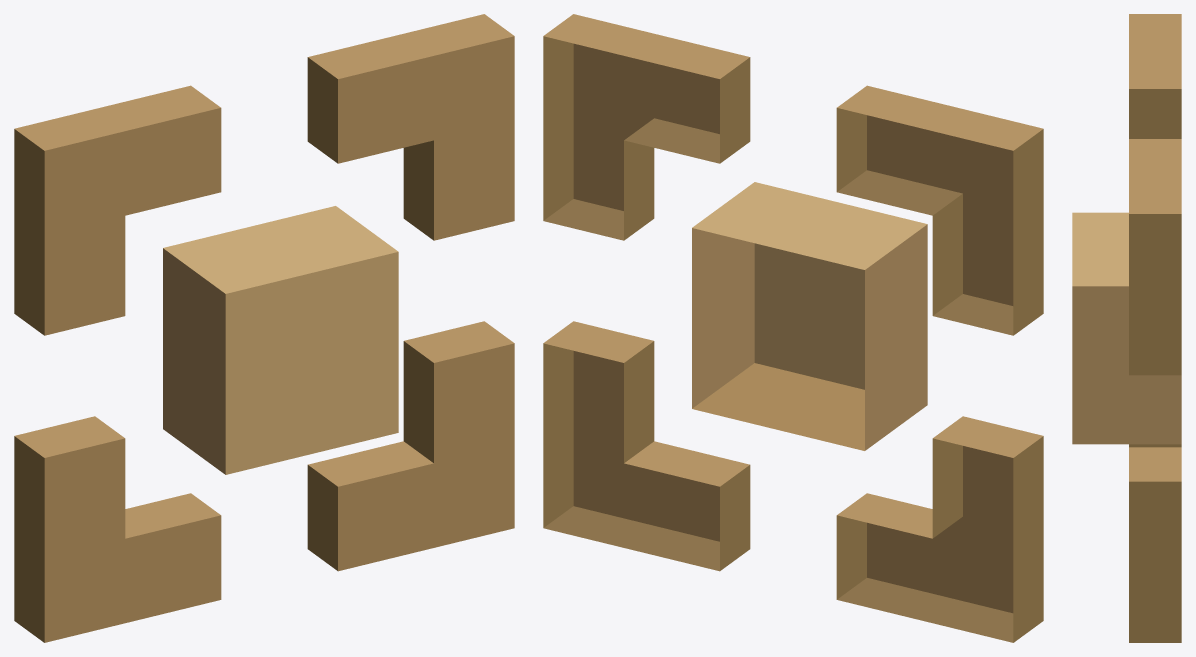
The model's file is ST_Prop_Button_01.fbx.
3 renders of one model, left to right at view 1: azimuth 30°, elevation 25°; view 2: azimuth 150°, elevation 25°; view 3: azimuth 270°, elevation 25°, orthographic. The views are drawn at different scales.
Parts seen in each view (by area): view 1: ST_Prop_Button_01; view 2: ST_Prop_Button_01; view 3: ST_Prop_Button_01.
Part boxes in pixels (left/top/right/bottom): ST_Prop_Button_01: left=14, top=14, right=514, bottom=642; ST_Prop_Button_01: left=543, top=14, right=1043, bottom=642; ST_Prop_Button_01: left=1072, top=14, right=1181, bottom=642.
Size of the model in its own units: 1.29 by 1.29 by 0.2978.
